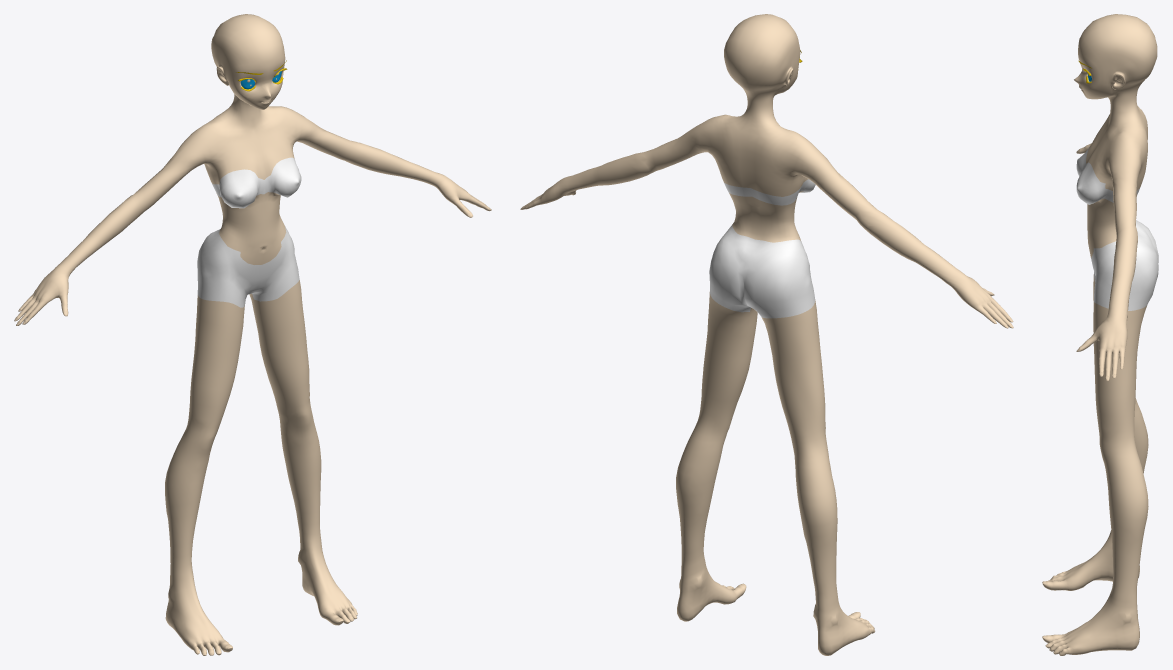
File: mono.glb
3 views of the same model, side by side, from view 1: azimuth 30°, elevation 25°; view 2: azimuth 150°, elevation 25°; view 3: azimuth 270°, elevation 25° (orthographic). The views are drawn at different scales.
Visible parts, largest first — view 1: f_an01; view 2: f_an01; view 3: f_an01.
Boxes of the visible parts, left/top/right/bottom form: f_an01: left=14, top=14, right=491, bottom=655; f_an01: left=520, top=14, right=1013, bottom=655; f_an01: left=1042, top=14, right=1158, bottom=655.
Size of the model in its own units: 1.43 by 1.72 by 0.3023.
